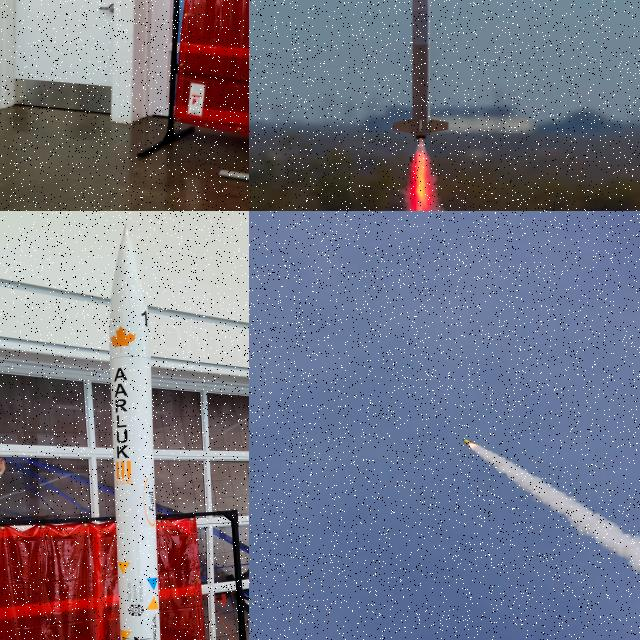Rocket: (109, 223, 161, 640), (392, 0, 450, 141), (462, 438, 476, 448)
